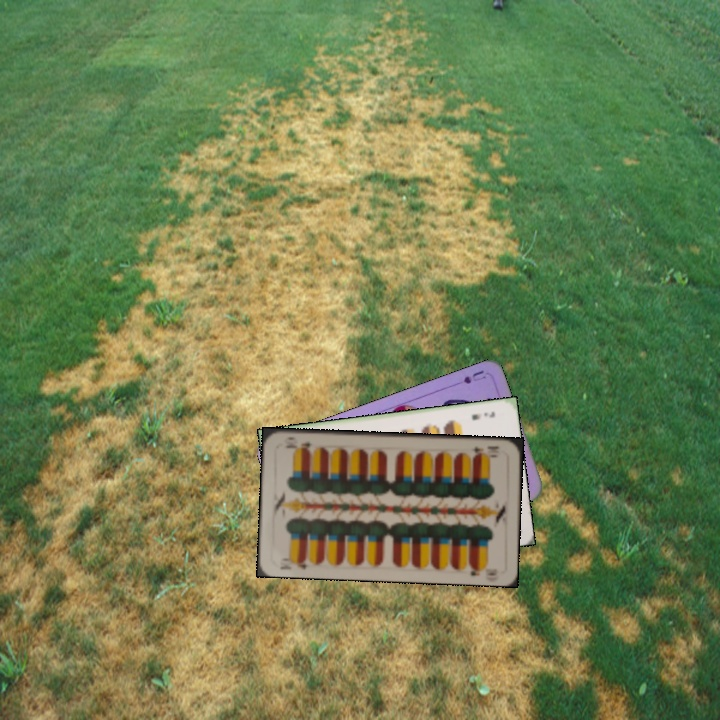E10: (276, 553, 311, 572), (466, 442, 502, 459)
E7: (467, 407, 497, 423)
SU: (448, 366, 488, 389)
